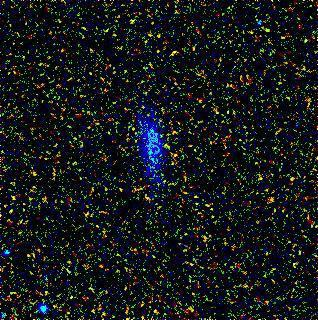star: (152, 130, 182, 160)
